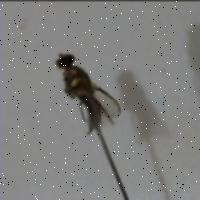Oriental-fruit-fly: (47, 38, 137, 136)
